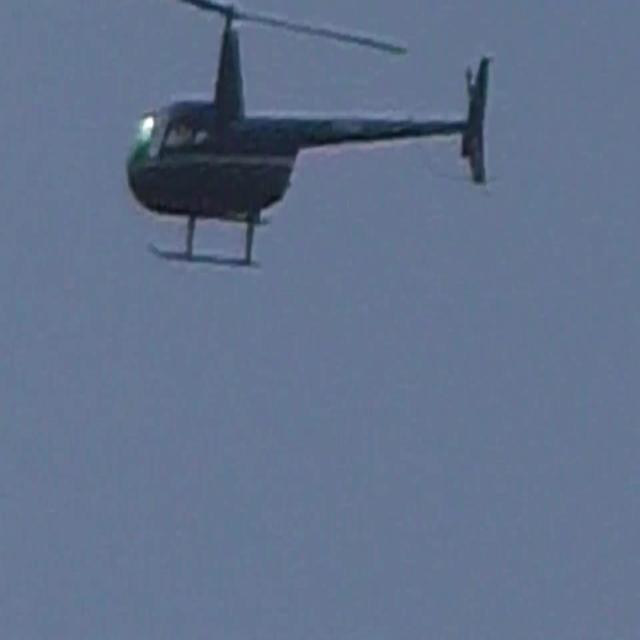CIV_HELO: (124, 0, 496, 273)
